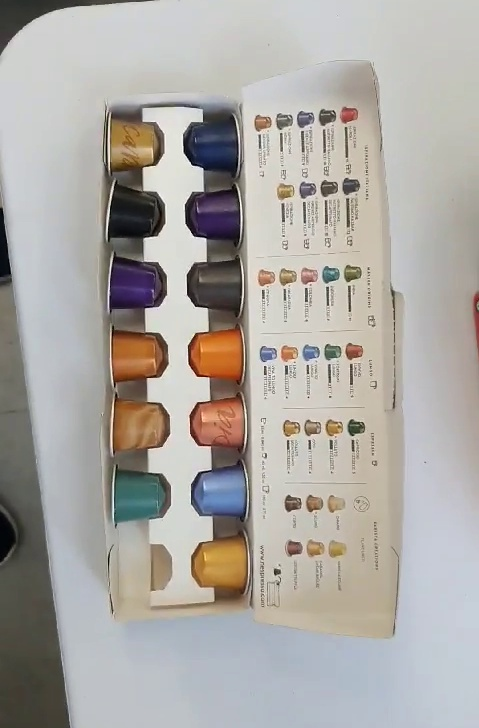capsule_2: (185, 182, 245, 253)
